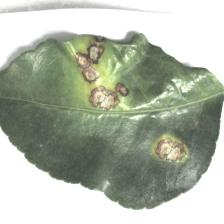canker: (64, 37, 195, 162)
